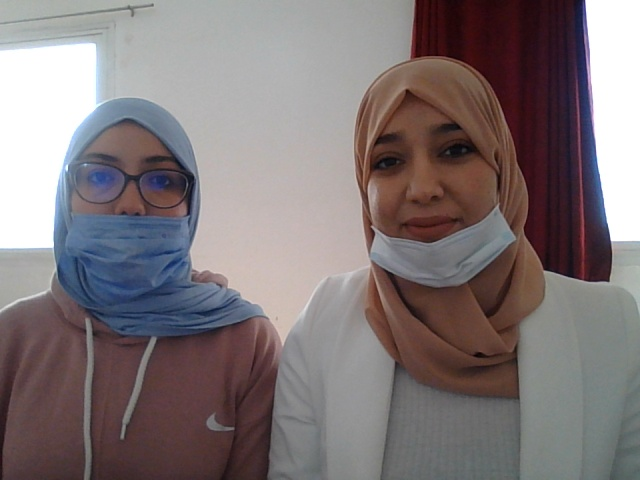mask_weared_incorrect: (21, 91, 205, 337), (343, 70, 524, 284)
